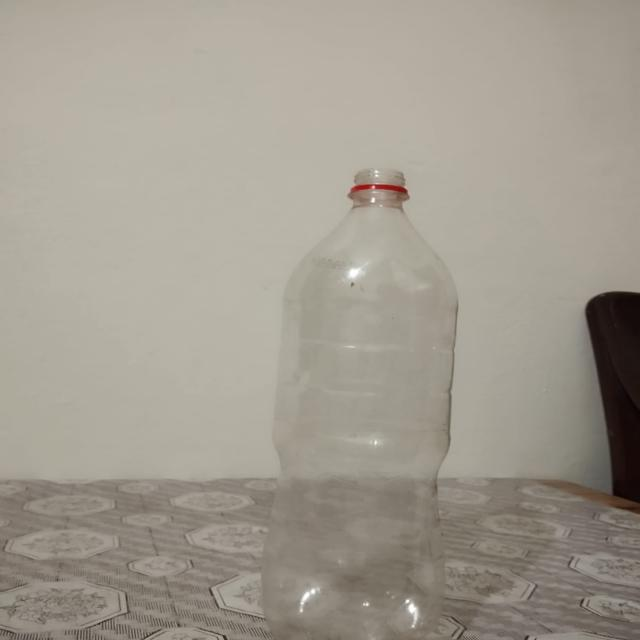bottle: (265, 165, 472, 640)
